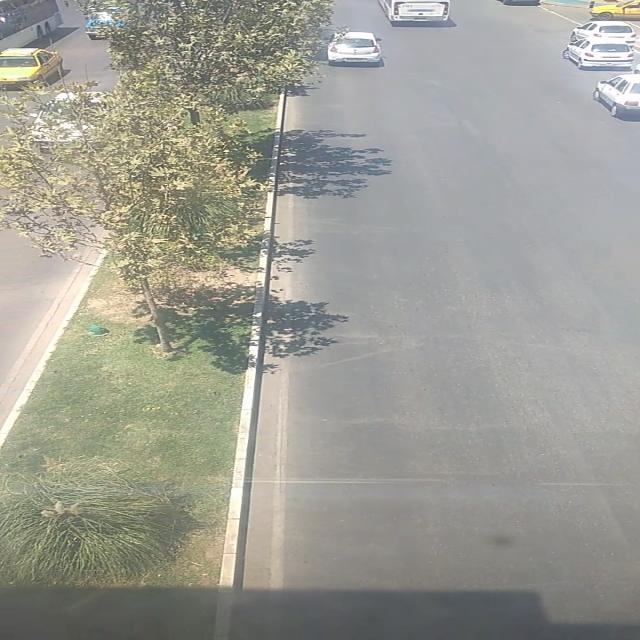bus: (0, 0, 66, 55), (374, 0, 454, 26)
car: (0, 48, 65, 94), (560, 36, 635, 70), (594, 73, 640, 119), (327, 32, 385, 65), (588, 0, 640, 20)
